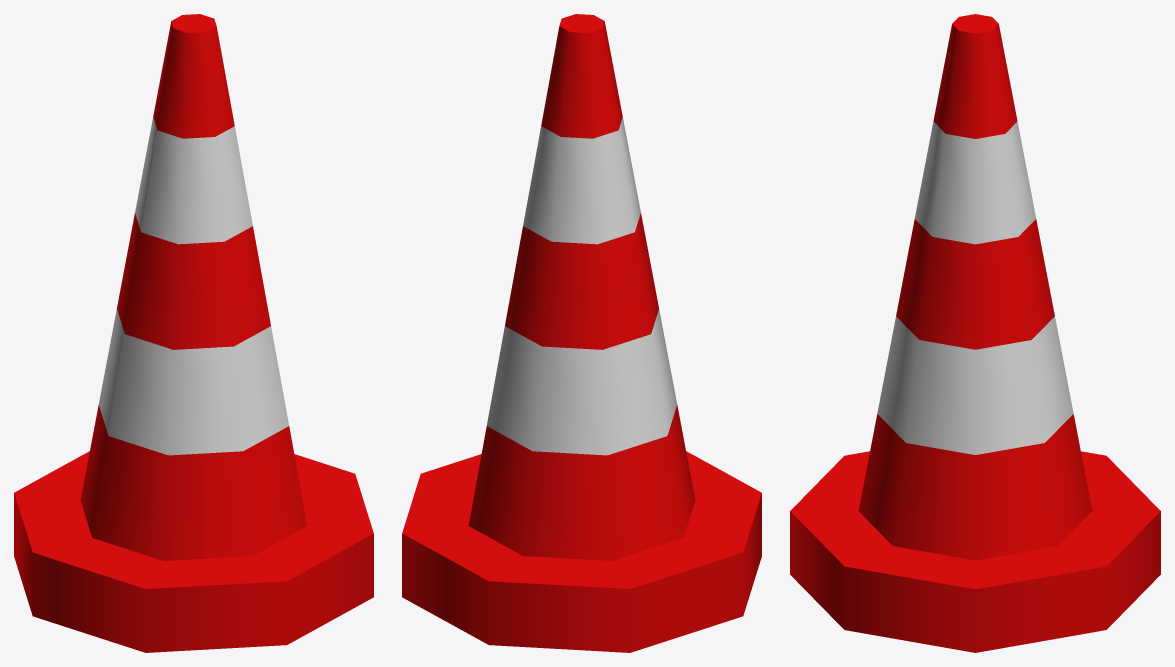
File: ETC0510019.fbx
The picture shows the model from 3 angles, left to right: view 1: azimuth 30°, elevation 25°; view 2: azimuth 150°, elevation 25°; view 3: azimuth 270°, elevation 25°; orthographic projection.
Visible parts, largest first — view 1: smETC0510019; view 2: smETC0510019; view 3: smETC0510019.
Part boxes in pixels (x1,y1,x2,y2): smETC0510019: (14,14,373,652); smETC0510019: (402,14,761,652); smETC0510019: (790,14,1160,652).
Size of the model in its own units: 38.06 by 62.4 by 38.06.
1 material, 1 textured.
